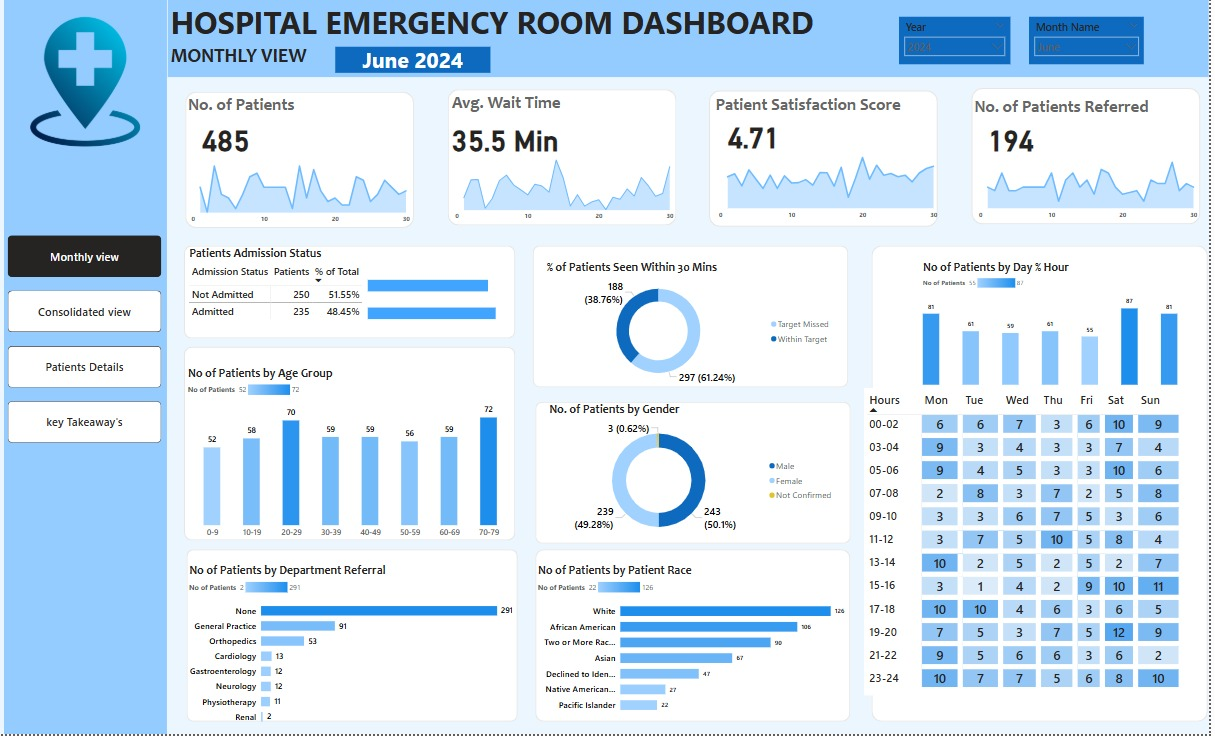

Layout of this report page (visuals, bound fields, positions):
{"tool":"powerbi","page":{"name":"Monthly view","canvas":[2300,1400],"ordinal":0},"visuals":[{"type":"shape","box":[9.9,0,310,1400.5],"z":0},{"type":"shape","box":[320.5,0,1980,150.4],"z":1000},{"type":"textbox","box":[321,0,1324.4,92.7],"z":2000},{"type":"shape","box":[354.3,178.3,435,259.2],"z":3000},{"type":"textbox","box":[320.5,81.4,286,69],"z":4000},{"type":"card","fields":{"Values":["Hospital ER_Data.No of Patients"]},"box":[354.3,221.1,154.6,88],"z":5000},{"type":"slicer","fields":{"Values":["Date Table.Year"]},"box":[1712,35.7,211.6,90.4],"z":6000},{"type":"slicer","fields":{"Values":["Date Table.Month Name"]},"box":[1959.2,35.7,218.8,90.4],"z":7000},{"type":"textbox","box":[354.3,178.3,285.3,69],"z":8000},{"type":"areaChart","fields":{"Category":["Date Table.Date.Variation.Date Hierarchy.Day"],"Y":["Hospital ER_Data.No of Patients"]},"box":[354.3,292.5,435.1,145],"z":9000},{"type":"shape","box":[852.8,173.6,435,259.2],"z":10000},{"type":"card","fields":{"Values":["Hospital ER_Data.Avg Wait Time"]},"box":[856,221.1,214,88],"z":11000},{"type":"textbox","box":[856,173.6,285.3,69],"z":12000},{"type":"areaChart","fields":{"Category":["Date Table.Date.Variation.Date Hierarchy.Day"],"Y":["Avg(Hospital ER_Data.Patient Waittime)"]},"box":[856,287.7,435.1,145],"z":13000},{"type":"shape","box":[1351.3,176,435.1,259.2],"z":14000},{"type":"card","fields":{"Values":["Hospital ER_Data.Satisfaction score"]},"box":[1357.7,216.4,154.6,88],"z":15000},{"type":"textbox","box":[1357.7,178.3,375.7,69],"z":16000},{"type":"areaChart","fields":{"Category":["Date Table.Date.Variation.Date Hierarchy.Day"],"Y":["Hospital ER_Data.Satisfaction score"]},"box":[1357.7,285.3,435.1,145],"z":17000},{"type":"shape","box":[1849.9,171.2,435.1,259.2],"z":18000},{"type":"card","fields":{"Values":["Hospital ER_Data.No of Patients referred"]},"box":[1847.5,221.1,154.6,88],"z":19000},{"type":"textbox","box":[1849.9,180.7,409,69],"z":20000},{"type":"areaChart","fields":{"Category":["Date Table.Date.Variation.Date Hierarchy.Day"],"Y":["Hospital ER_Data.No of Patients referred"]},"box":[1852.3,285.3,435.1,145],"z":21000},{"type":"card","fields":{"Values":["Min(Date Table.Month & Year)"]},"box":[639.6,92.7,294.8,49.9],"z":22000},{"type":"shape","box":[351.9,470.8,630,177],"z":23000},{"type":"pivotTable","title":"Patients Admission Status","fields":{"Rows":["Hospital ER_Data.Admission Status"],"Values":["Hospital ER_Data.No of Patients1","Hospital ER_Data.No of Patients"]},"box":[356.7,470.8,606.3,176],"z":24000},{"type":"barChart","fields":{"Category":["Hospital ER_Data.Admission Status"],"Y":["Hospital ER_Data.No of Patients"]},"box":[696.7,496.9,302,149.8],"z":25000},{"type":"shape","box":[351.9,663.4,630.1,368.5],"z":26000},{"type":"clusteredColumnChart","fields":{"Category":["Hospital ER_Data.Age Group"],"Y":["Hospital ER_Data.No of Patients"]},"box":[354.3,699.1,630.1,337.6],"z":27000},{"type":"shape","box":[356.7,1048.6,630.1,328.1],"z":28000},{"type":"clusteredBarChart","fields":{"Category":["Hospital ER_Data.Department Referral"],"Y":["Hospital ER_Data.No of Patients"]},"box":[356.7,1074.7,625.3,318.6],"z":29000},{"type":"shape","box":[1015.3,470.8,600,270],"z":30000},{"type":"donutChart","title":"% of Patients Seen Within 30 Mins","fields":{"Category":["Hospital ER_Data.Waittime Status"],"Y":["Hospital ER_Data.No of Patients"]},"box":[1036.7,496.9,556.4,244.9],"z":31000},{"type":"shape","box":[1019.6,768,600,270],"z":32000},{"type":"donutChart","title":"No. of Patients by Gender","fields":{"Y":["Hospital ER_Data.No of Patients"],"Category":["Hospital ER_Data.Patient Gender"]},"box":[1041,768,556.4,271.1],"z":33000},{"type":"shape","box":[1020,1048.6,599.2,328.1],"z":34000},{"type":"shape","box":[1659.7,470.8,639.6,905.9],"z":35000},{"type":"clusteredBarChart","fields":{"Y":["Hospital ER_Data.No of Patients"],"Category":["Hospital ER_Data.Patient Race"]},"box":[1020,1074.7,594.4,297.2],"z":36000},{"type":"pivotTable","fields":{"Rows":["Hospital ER_Data.Waittime Interval"],"Columns":["Date Table.Day Name"],"Values":["Hospital ER_Data.No of Patients"]},"box":[1645.4,741.9,605,585],"z":37000},{"type":"columnChart","title":"No of Patients by Day % Hour","fields":{"Category":["Date Table.Day Name"],"Y":["Hospital ER_Data.No of Patients"]},"box":[1752.4,496.9,496.9,244.9],"z":38000},{"type":"image","box":[35.7,30.9,256.8,256.8],"z":39000},{"type":"pageNavigator","box":[16.6,451.8,292.5,397.1],"z":40000}]}

Visuals, with their boxes in screenshot pixels (x1, y1, x2, y2), scaled from the page's 2300x1400 canvas onto the 1215x736 screenshot:
shape: [5,0,169,735]
shape: [169,0,1214,79]
textbox: [170,0,869,49]
shape: [187,94,417,230]
textbox: [169,43,320,79]
card - Hospital ER_Data.No of Patients: [187,116,269,162]
slicer - Date Table.Year: [904,19,1016,66]
slicer - Date Table.Month Name: [1035,19,1151,66]
textbox: [187,94,338,130]
areaChart - Date Table.Date.Variation.Date Hierarchy.Day x Hospital ER_Data.No of Patients: [187,154,417,230]
shape: [451,91,680,228]
card - Hospital ER_Data.Avg Wait Time: [452,116,565,162]
textbox: [452,91,603,128]
areaChart - Date Table.Date.Variation.Date Hierarchy.Day x Avg(Hospital ER_Data.Patient Waittime): [452,151,682,227]
shape: [714,93,944,229]
card - Hospital ER_Data.Satisfaction score: [717,114,799,160]
textbox: [717,94,916,130]
areaChart - Date Table.Date.Variation.Date Hierarchy.Day x Hospital ER_Data.Satisfaction score: [717,150,947,226]
shape: [977,90,1207,226]
card - Hospital ER_Data.No of Patients referred: [976,116,1058,162]
textbox: [977,95,1193,131]
areaChart - Date Table.Date.Variation.Date Hierarchy.Day x Hospital ER_Data.No of Patients referred: [978,150,1208,226]
card - Min(Date Table.Month & Year): [338,49,494,75]
shape: [186,248,519,341]
"Patients Admission Status" pivotTable: [188,248,509,340]
barChart - Hospital ER_Data.Admission Status x Hospital ER_Data.No of Patients: [368,261,528,340]
shape: [186,349,519,542]
clusteredColumnChart - Hospital ER_Data.Age Group x Hospital ER_Data.No of Patients: [187,368,520,545]
shape: [188,551,521,724]
clusteredBarChart - Hospital ER_Data.Department Referral x Hospital ER_Data.No of Patients: [188,565,519,732]
shape: [536,248,853,389]
"% of Patients Seen Within 30 Mins" donutChart: [548,261,842,390]
shape: [539,404,856,546]
"No. of Patients by Gender" donutChart: [550,404,844,546]
shape: [539,551,855,724]
shape: [877,248,1214,724]
clusteredBarChart - Hospital ER_Data.No of Patients x Hospital ER_Data.Patient Race: [539,565,853,721]
pivotTable - Hospital ER_Data.Waittime Interval x Date Table.Day Name: [869,390,1189,698]
"No of Patients by Day % Hour" columnChart: [926,261,1188,390]
image: [19,16,155,151]
pageNavigator: [9,238,163,446]
